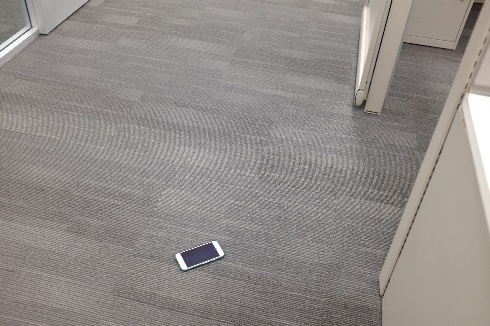phone: (176, 238, 225, 270)
